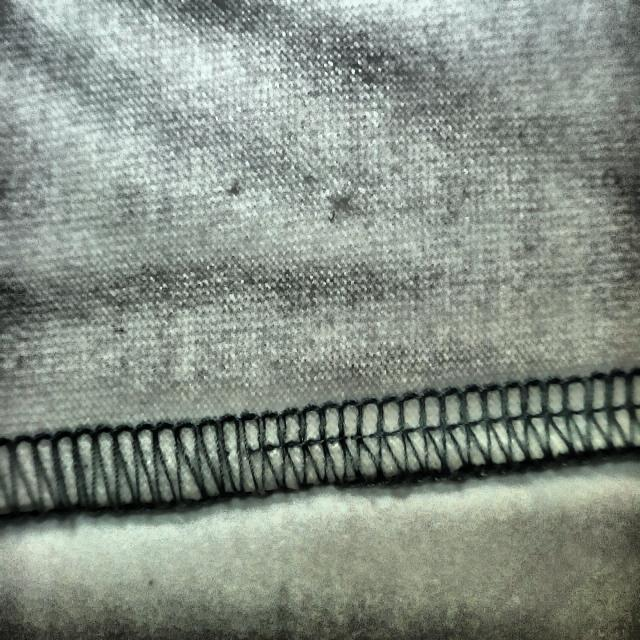Stitch: (78, 390, 436, 516)
